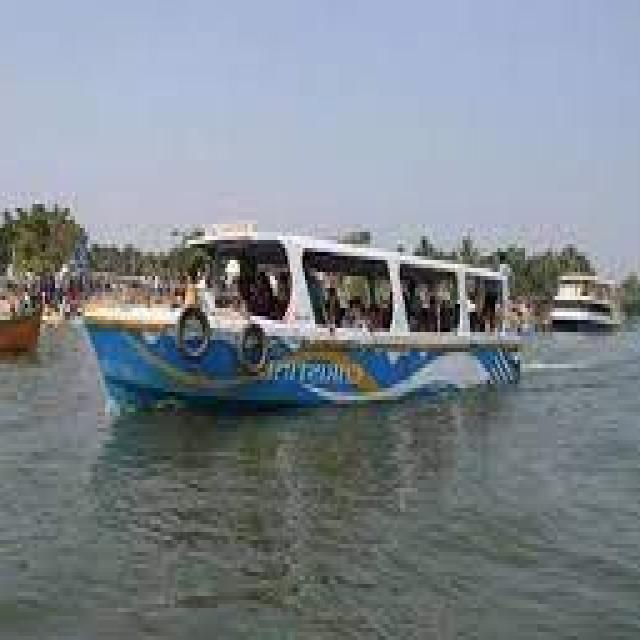houseboat: (542, 252, 640, 340)
passenger ship: (83, 213, 529, 402)
